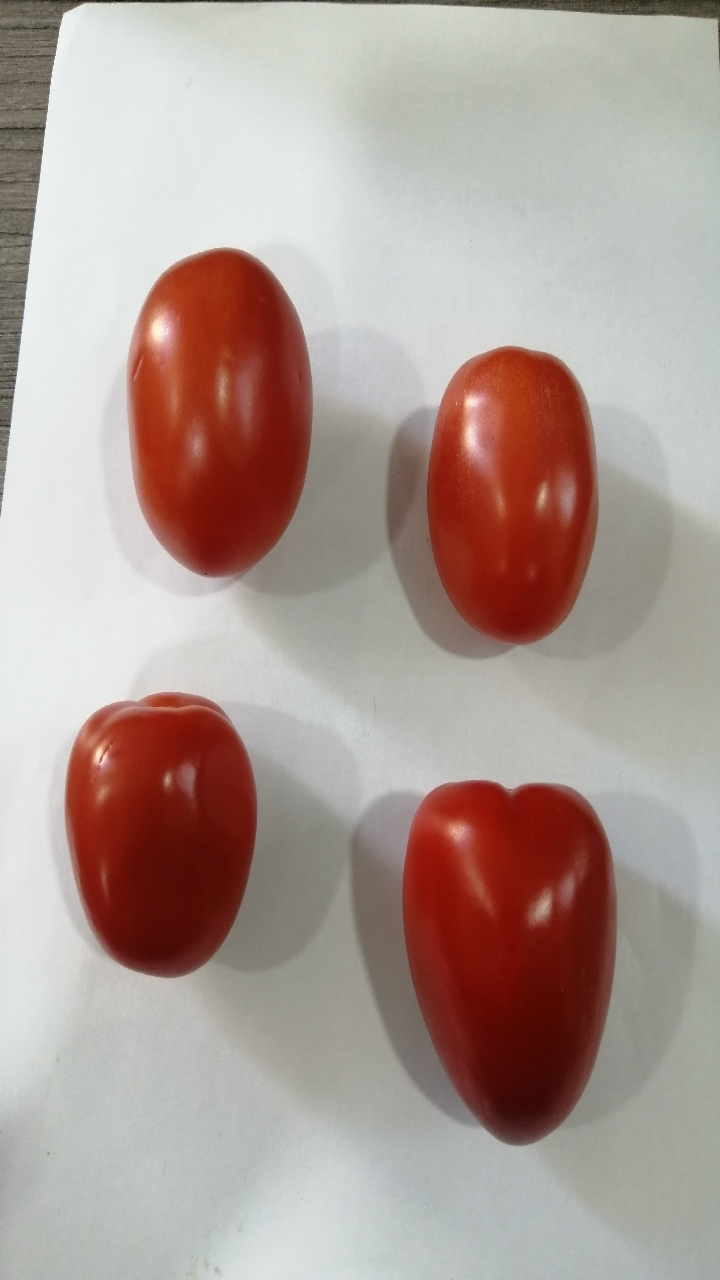tomateRojo: (381, 760, 628, 1163), (98, 228, 328, 605), (55, 677, 271, 999), (409, 332, 612, 655)
